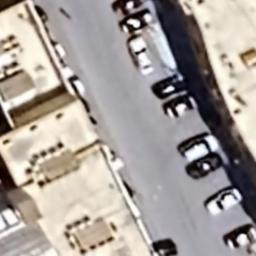SUV: (180, 133, 218, 161)
sedan: (126, 33, 156, 77), (204, 188, 244, 218), (185, 152, 223, 182), (222, 220, 256, 252), (164, 95, 198, 121)
unknown: (120, 6, 154, 36)
